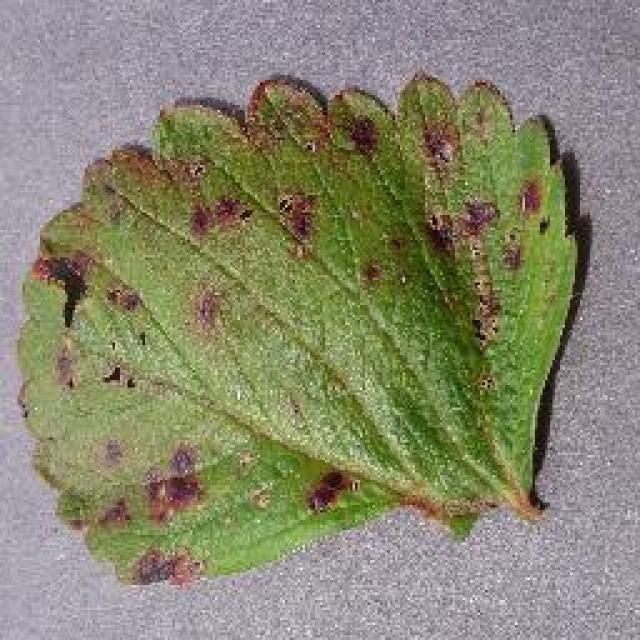Strawberry leaf scorch: (61, 115, 532, 493)
